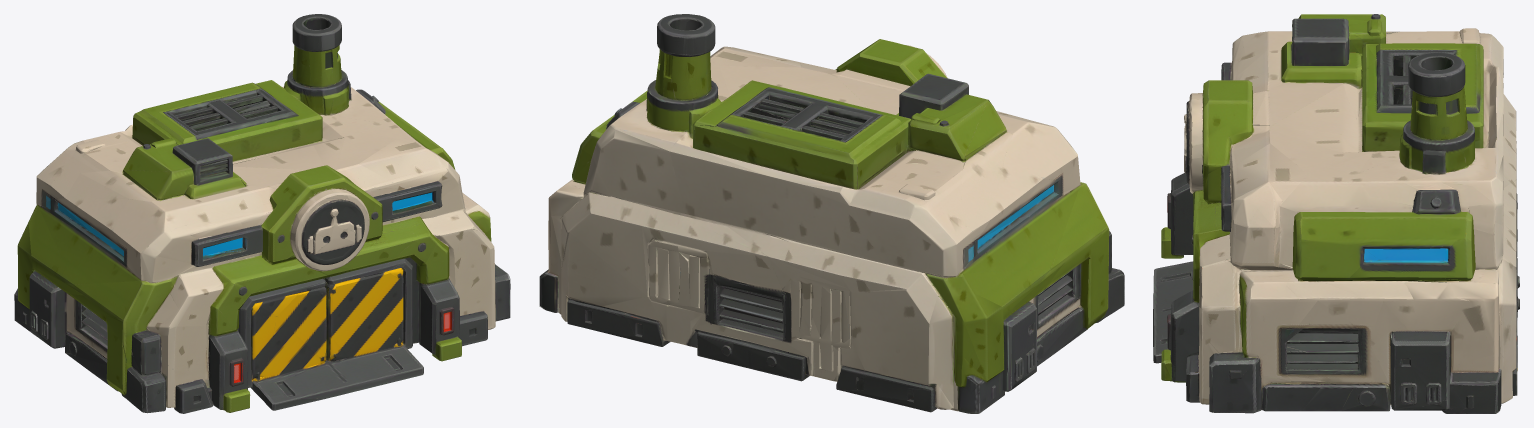
Rendered from m02_robot_factory.glb.
3 views of the same model, side by side, from view 1: azimuth 30°, elevation 25°; view 2: azimuth 150°, elevation 25°; view 3: azimuth 270°, elevation 25° (orthographic). The views are drawn at different scales.
Bounding box in the file's own units: 1.9 × 1.2 × 1.3.
Materials: 1 (1 with a texture image).
